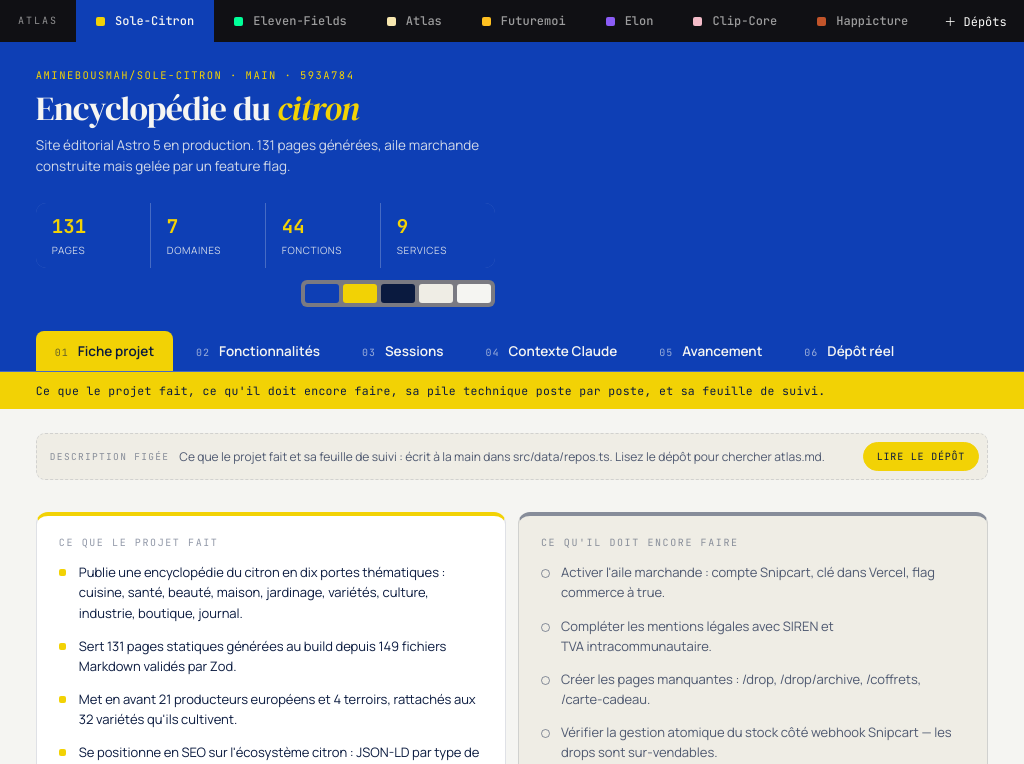
Test: navigation › change de vue et inscrit le choix dans l’URL
Click the button "05 Avancement": (711, 351) [640,331,781,371]
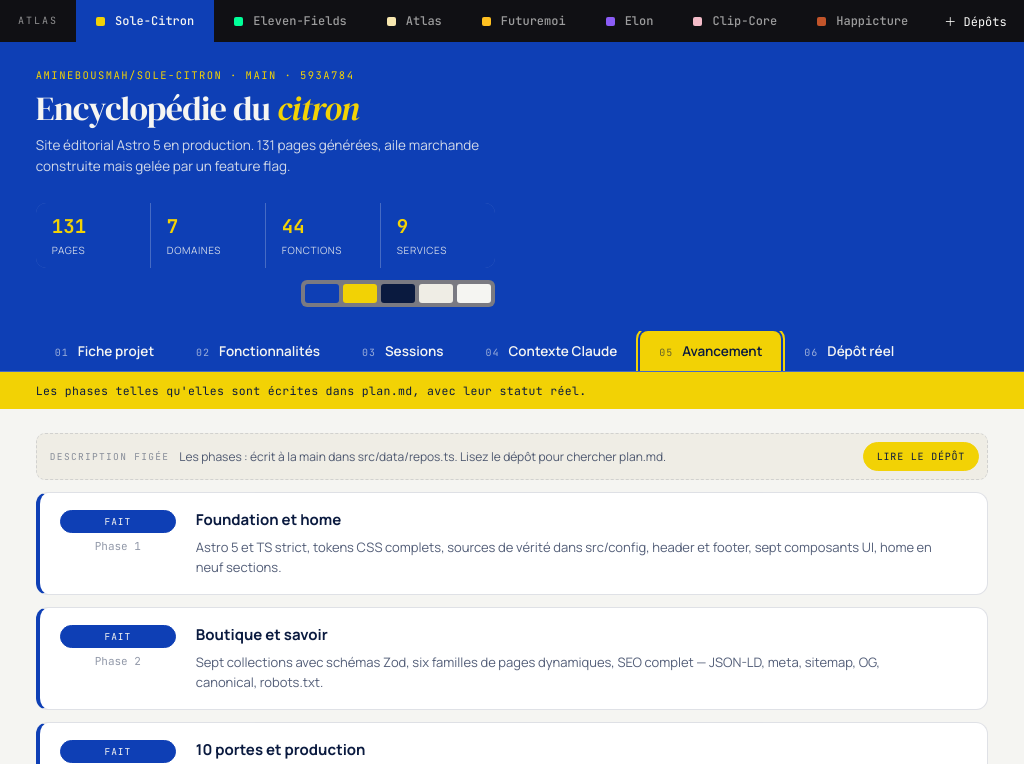
Check: the text "Foundation et home" is shown, box [196,509,341,530]
